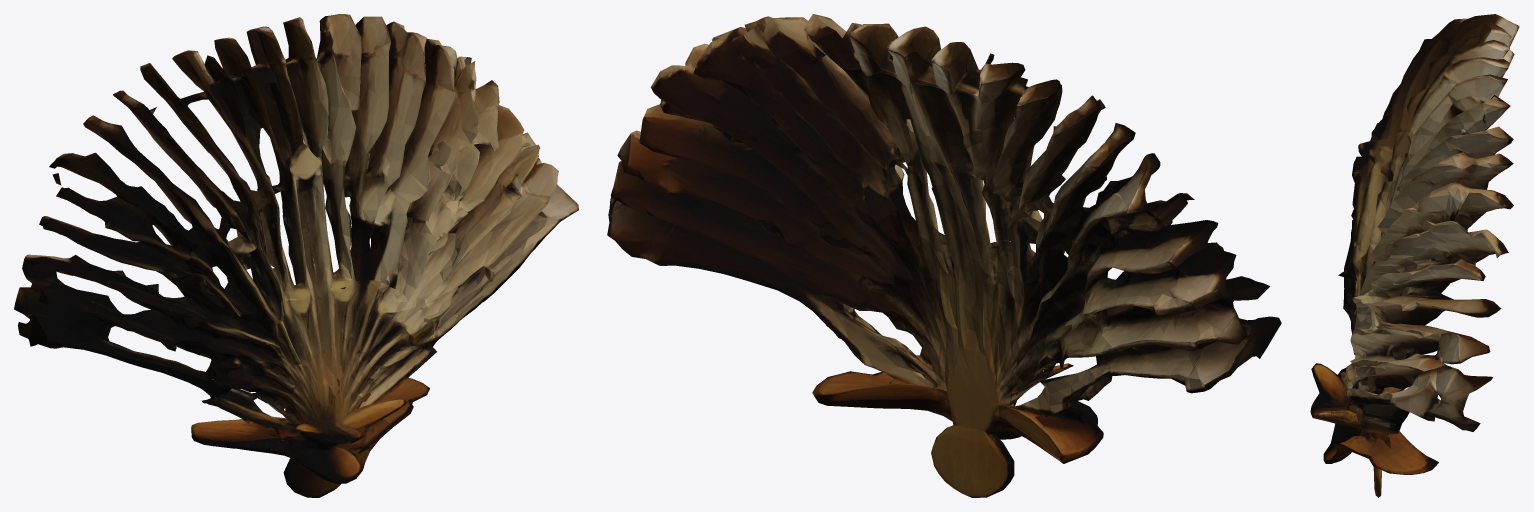
Rendered from wooden-folding-fan-futuristic.jpeg.glb.
3 renders of one model, left to right at view 1: azimuth 30°, elevation 25°; view 2: azimuth 150°, elevation 25°; view 3: azimuth 270°, elevation 25°, orthographic. The views are drawn at different scales.
Parts seen in each view (by area): view 1: world; view 2: world; view 3: world.
Boxes of the visible parts, x1=… form: world: x1=14, y1=14, x2=578, y2=497; world: x1=607, y1=14, x2=1281, y2=497; world: x1=1310, y1=14, x2=1519, y2=497.
Bounding box in the file's own units: 1 × 0.7715 × 0.3346.
Materials: 1 (1 with a texture image).
